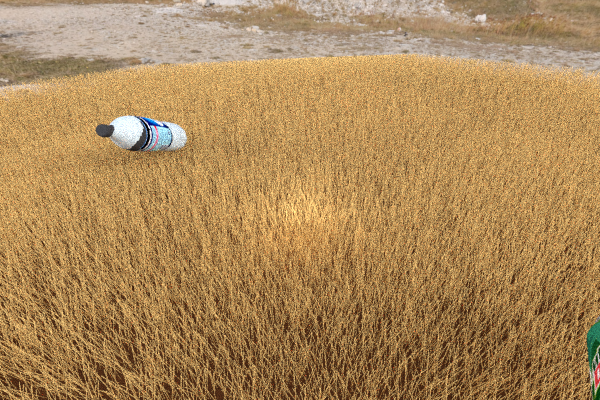Plastic Bottle: (95, 115, 186, 151), (586, 306, 600, 400)
